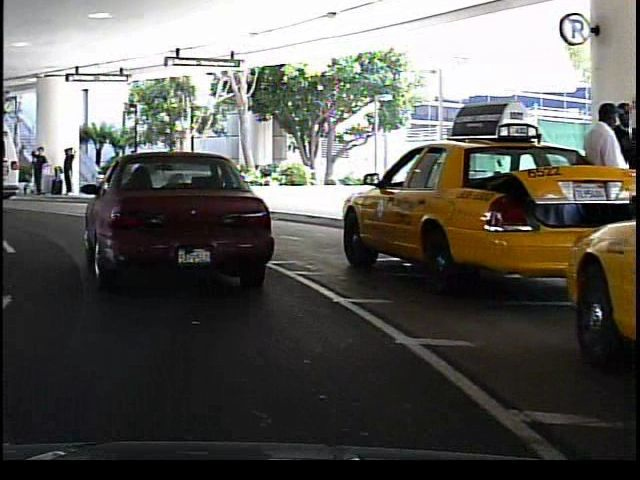person: (574, 101, 624, 265), (611, 96, 640, 265), (117, 145, 145, 200), (26, 141, 48, 201), (57, 142, 76, 199)
